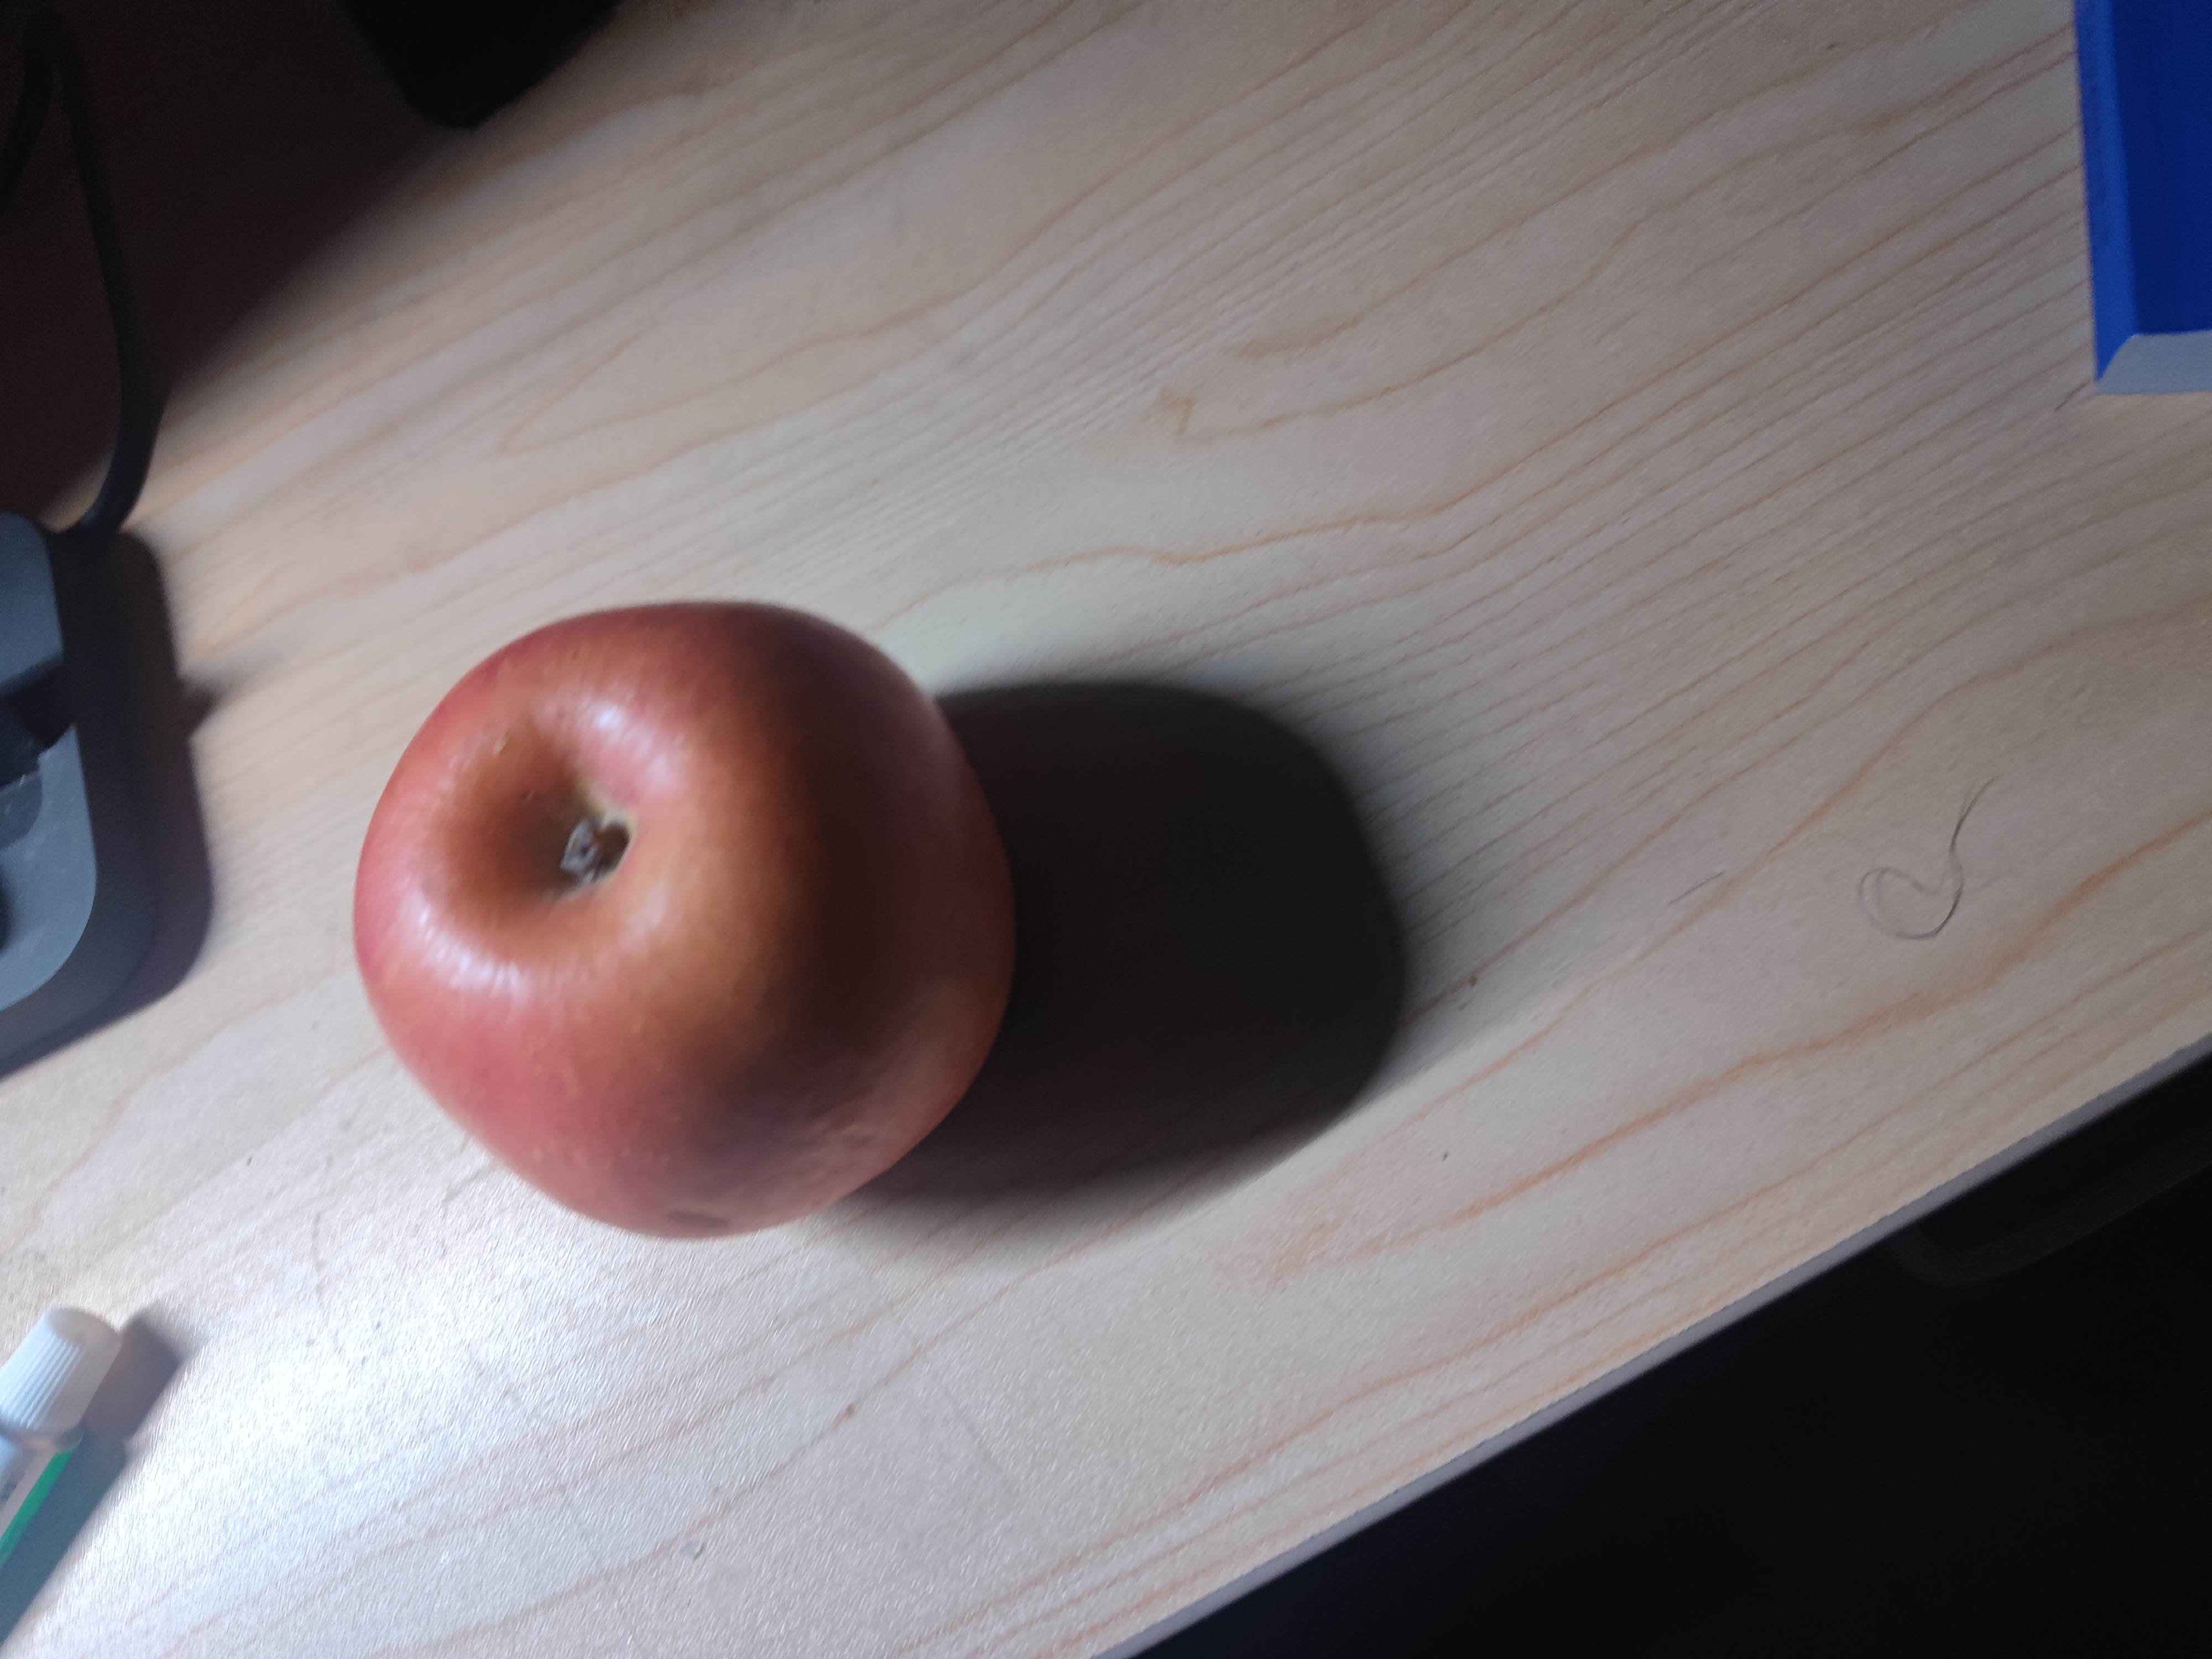apple: (347, 596, 1024, 1249)
